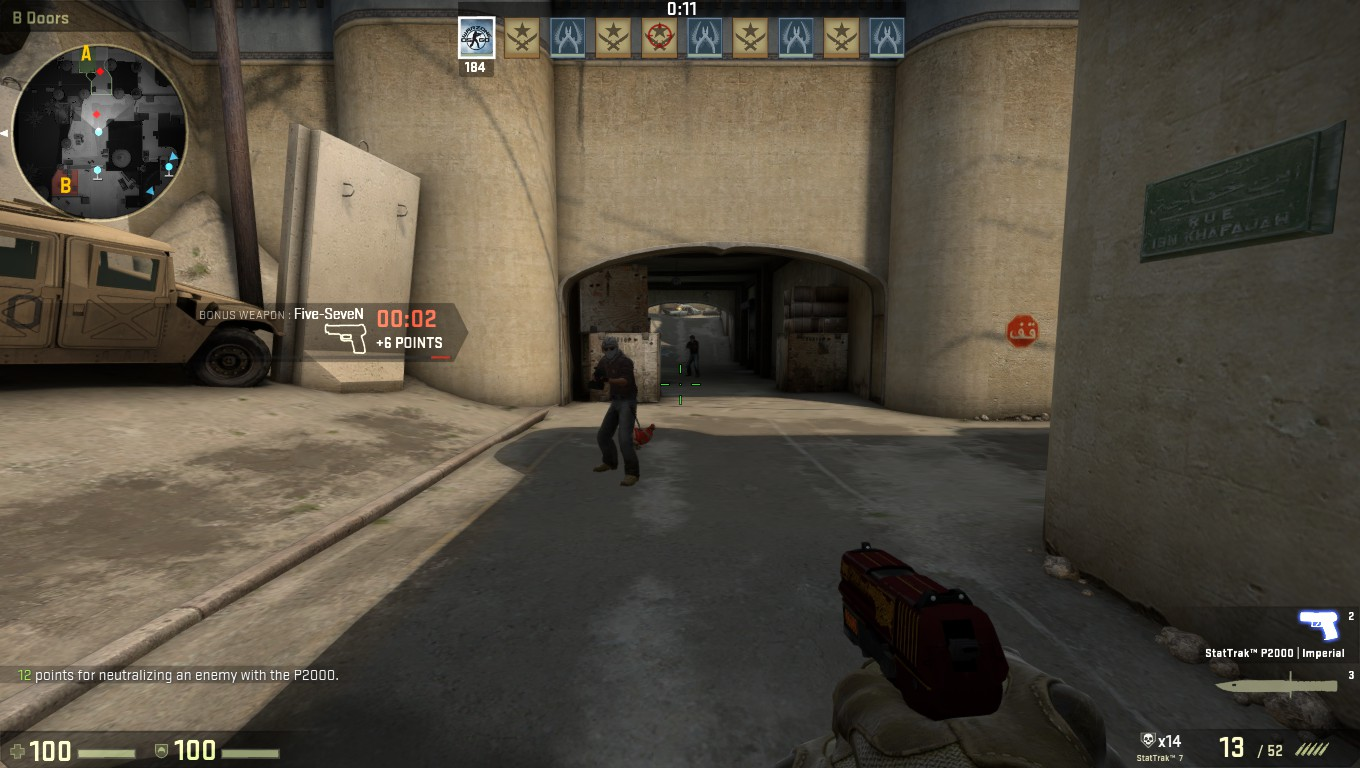t: (582, 332, 648, 491), (680, 332, 707, 379)
th: (597, 337, 625, 364), (684, 334, 701, 345)
